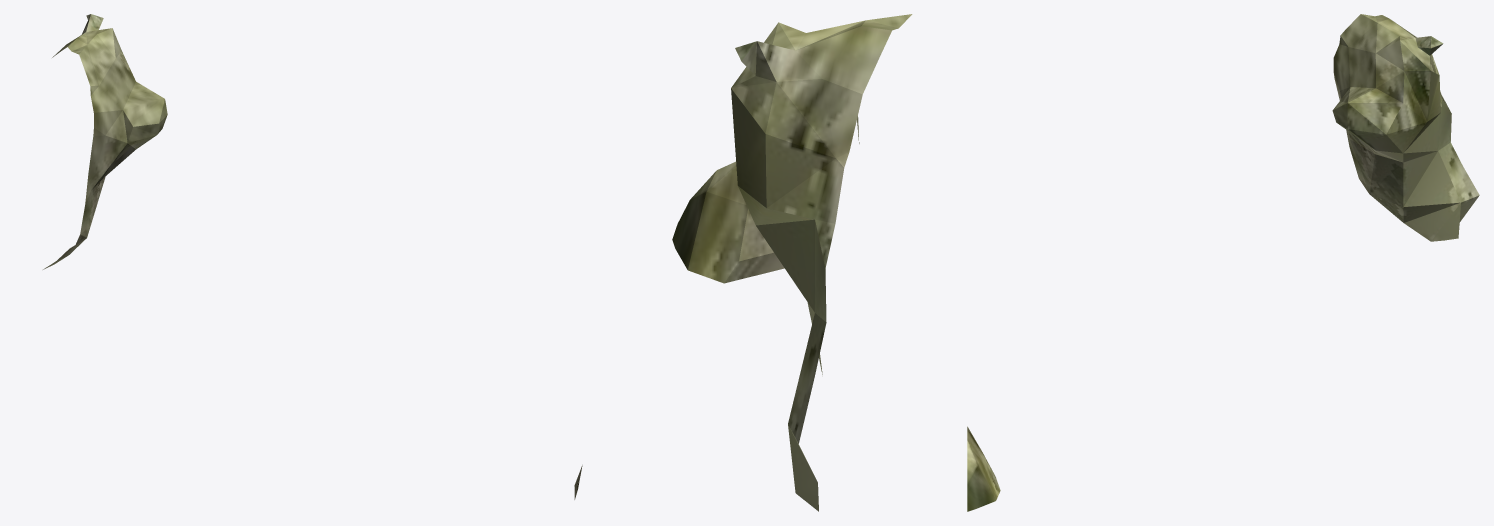
3 views of the same model, side by side, from view 1: azimuth 30°, elevation 25°; view 2: azimuth 150°, elevation 25°; view 3: azimuth 270°, elevation 25° (orthographic). The views are drawn at different scales.
Size of the model in its own units: 2.09 by 2.12 by 2.88.
Materials: 1 (1 with a texture image).
